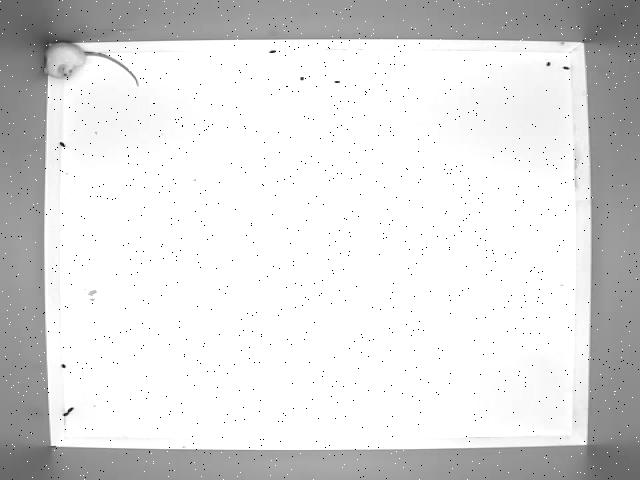Tikus: (44, 40, 144, 94)
